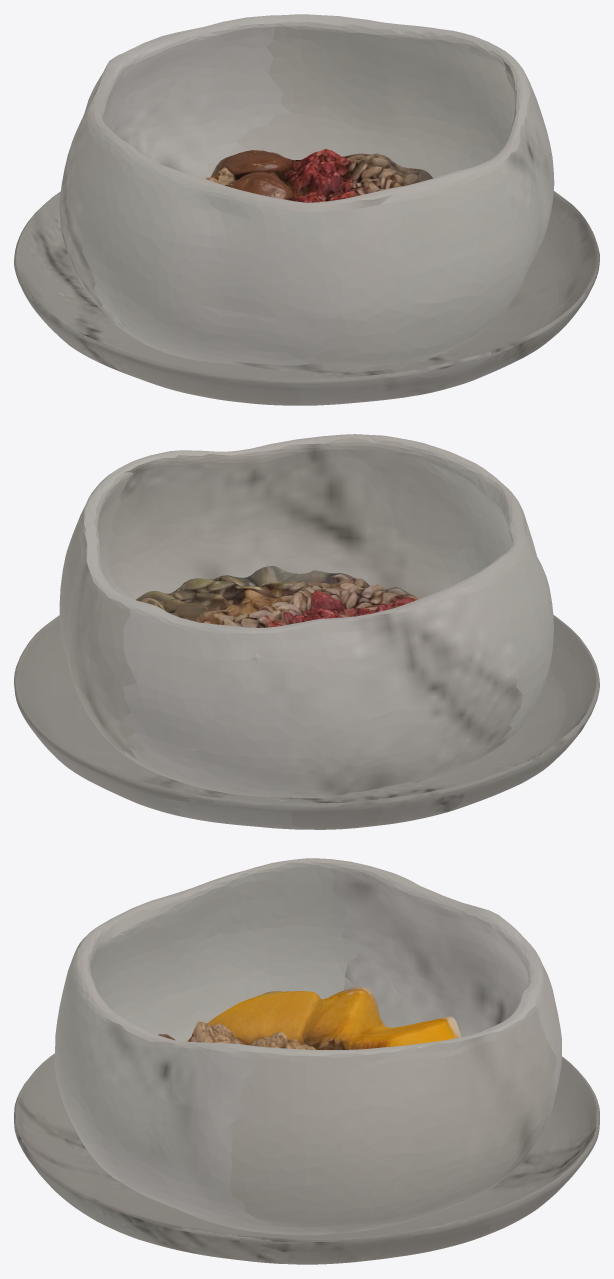
The model's file is zarfe.miveh.set.glb.
3 views of the same model, one above another, from view 1: azimuth 30°, elevation 25°; view 2: azimuth 150°, elevation 25°; view 3: azimuth 270°, elevation 25° (orthographic).
Parts seen in each view (by area): view 1: world (×2), object 1; view 2: world (×2), object 1; view 3: world (×2), object 1.
Part boxes in pixels (x1,y1,x2,y2): world (×2): (14,14,599,405); object 1: (205,149,433,202); world (×2): (14,434,599,829); object 1: (136,566,418,627); world (×2): (14,858,599,1264); object 1: (158,987,461,1049).
Bounding box in the file's own units: 0.2301 × 0.0954 × 0.23.
3 materials, 3 textured.
